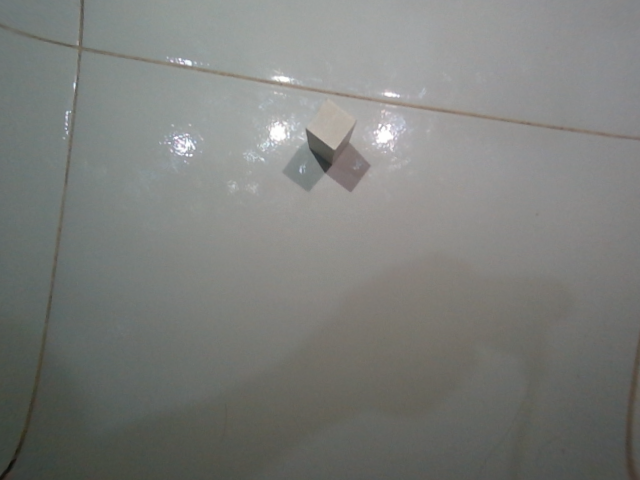Balok-Putih: (303, 101, 353, 166)
